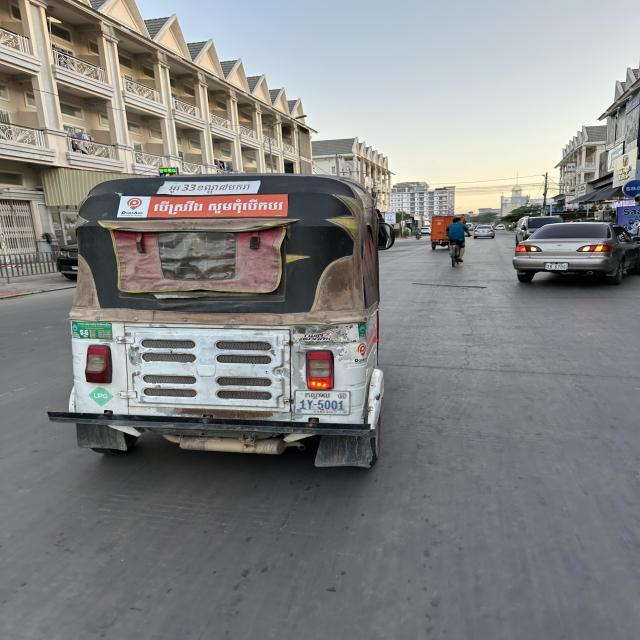Kandal: (303, 392, 332, 400)
